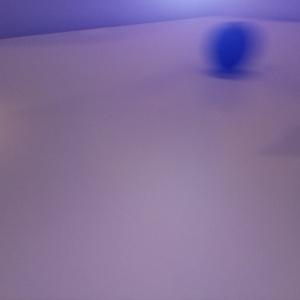dead_ball: (209, 23, 255, 70)
